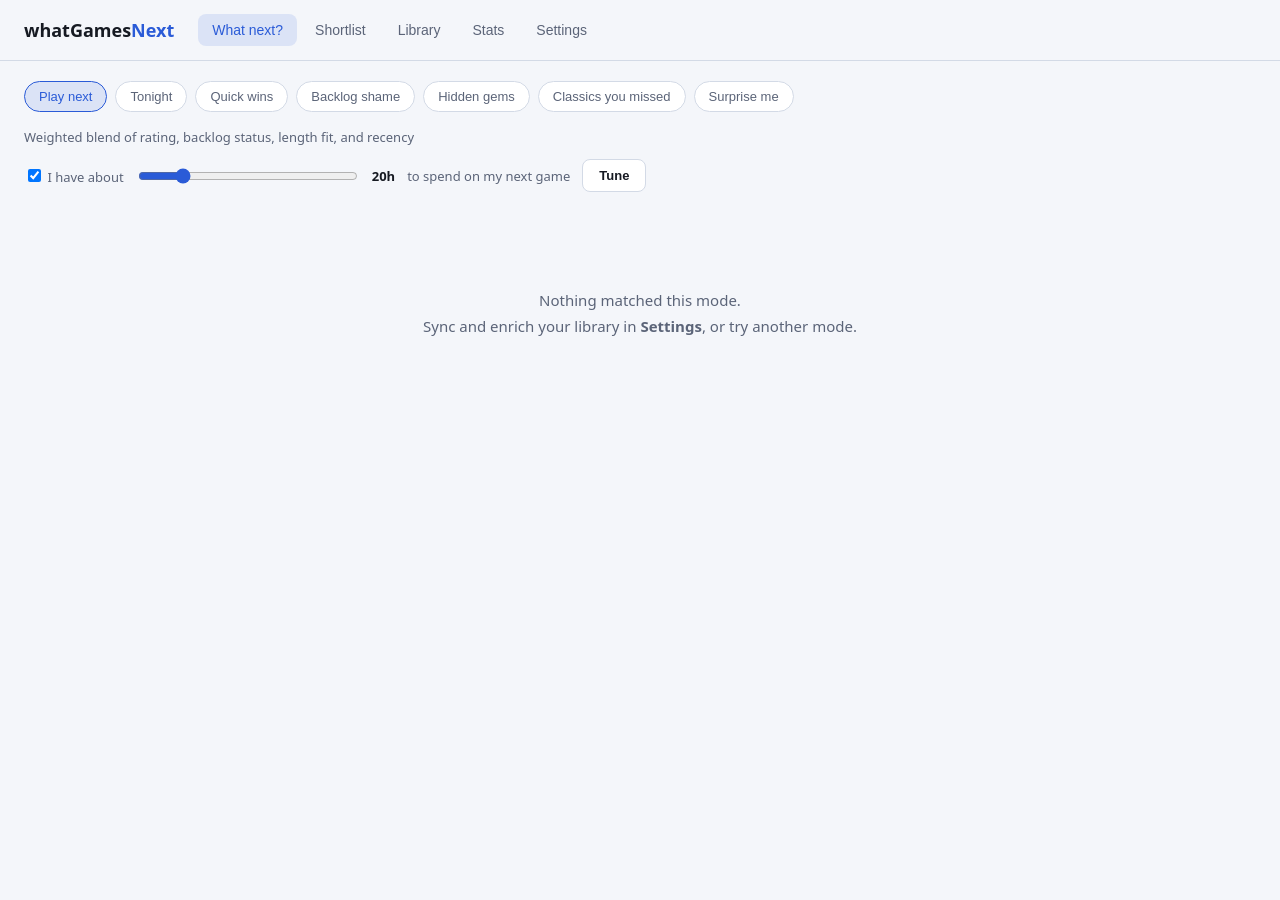
App › routes to every tab it advertises
Click the button "Shortlist" at (340, 30), box [301,14,380,46]
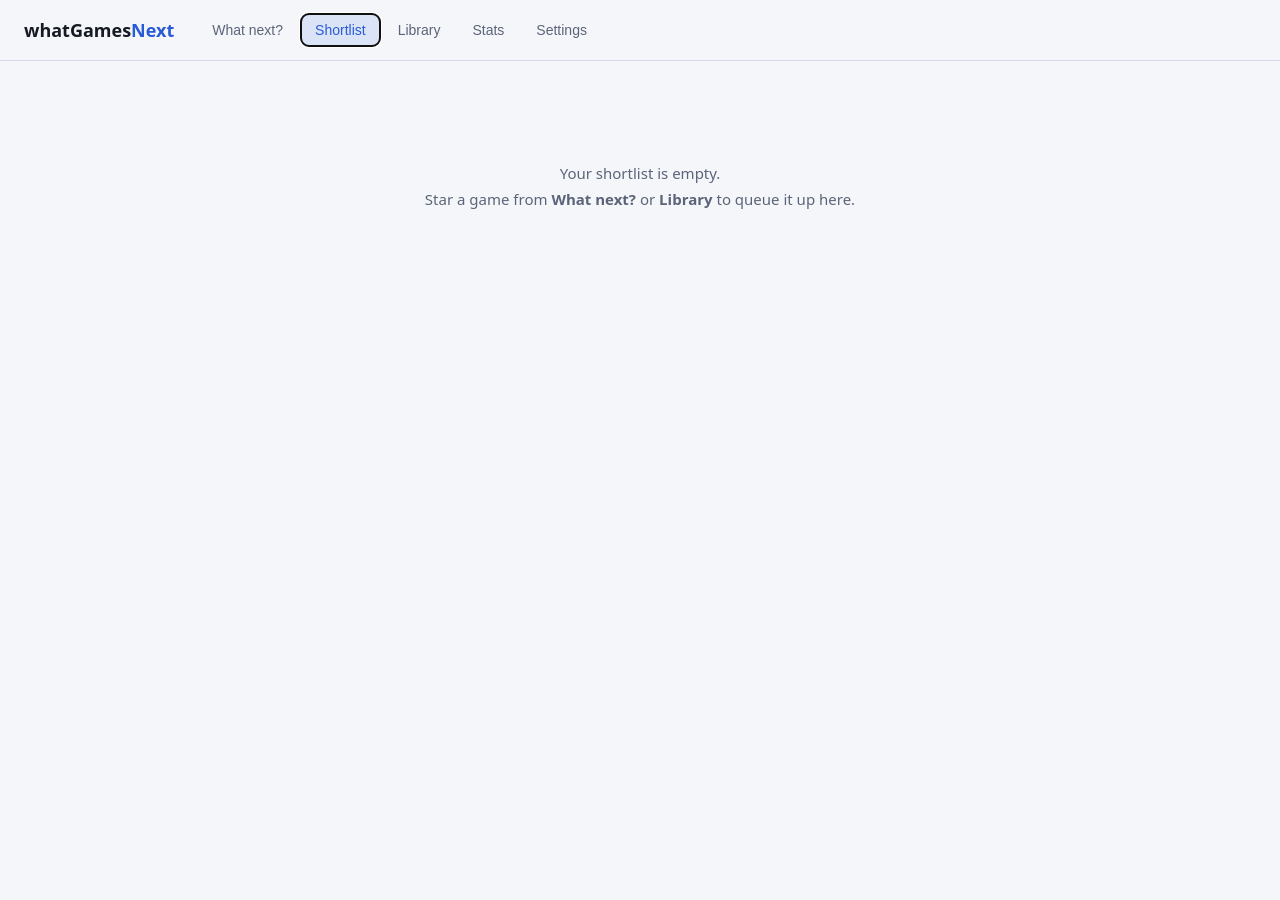
Now the text "shortlist is empty" is shown, box [560,163,720,183]
Click the button "Library" at (419, 30), box [384,14,454,46]
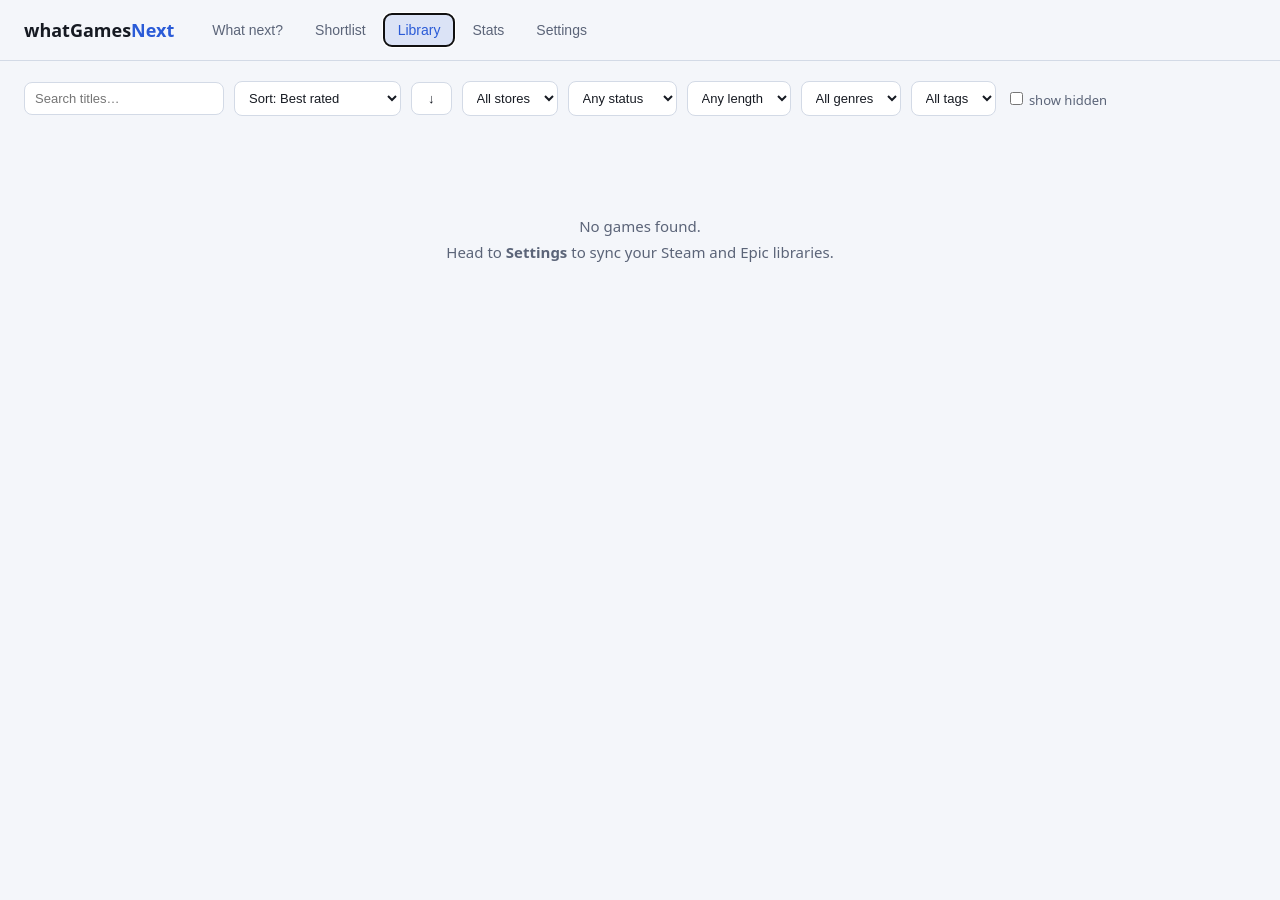
Now the field labelled "Search titles" is shown, box [24,82,224,115]
Click the button "Stats" at (488, 30), box [458,14,518,46]
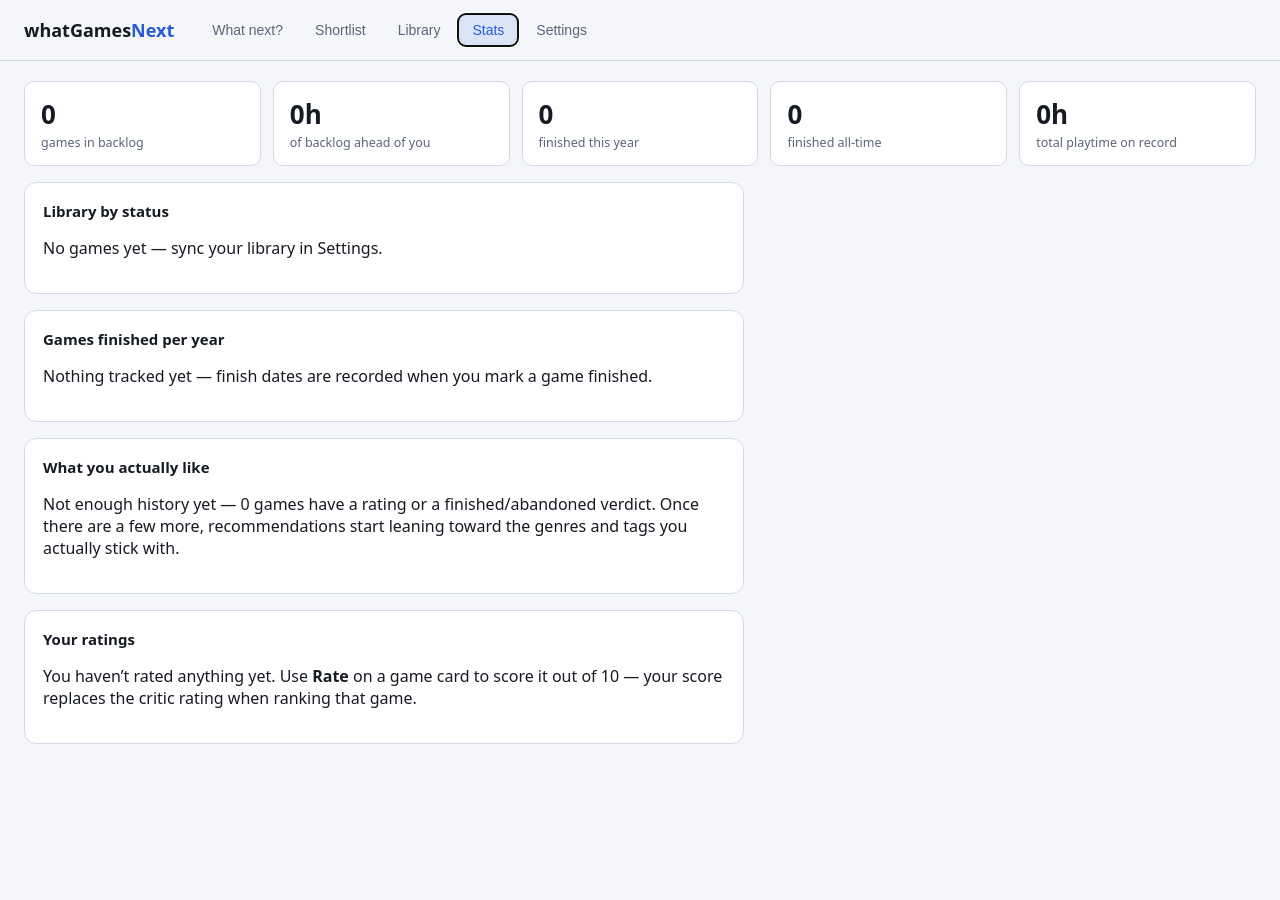
Now the heading "Library by status" is shown, box [43,201,169,221]
